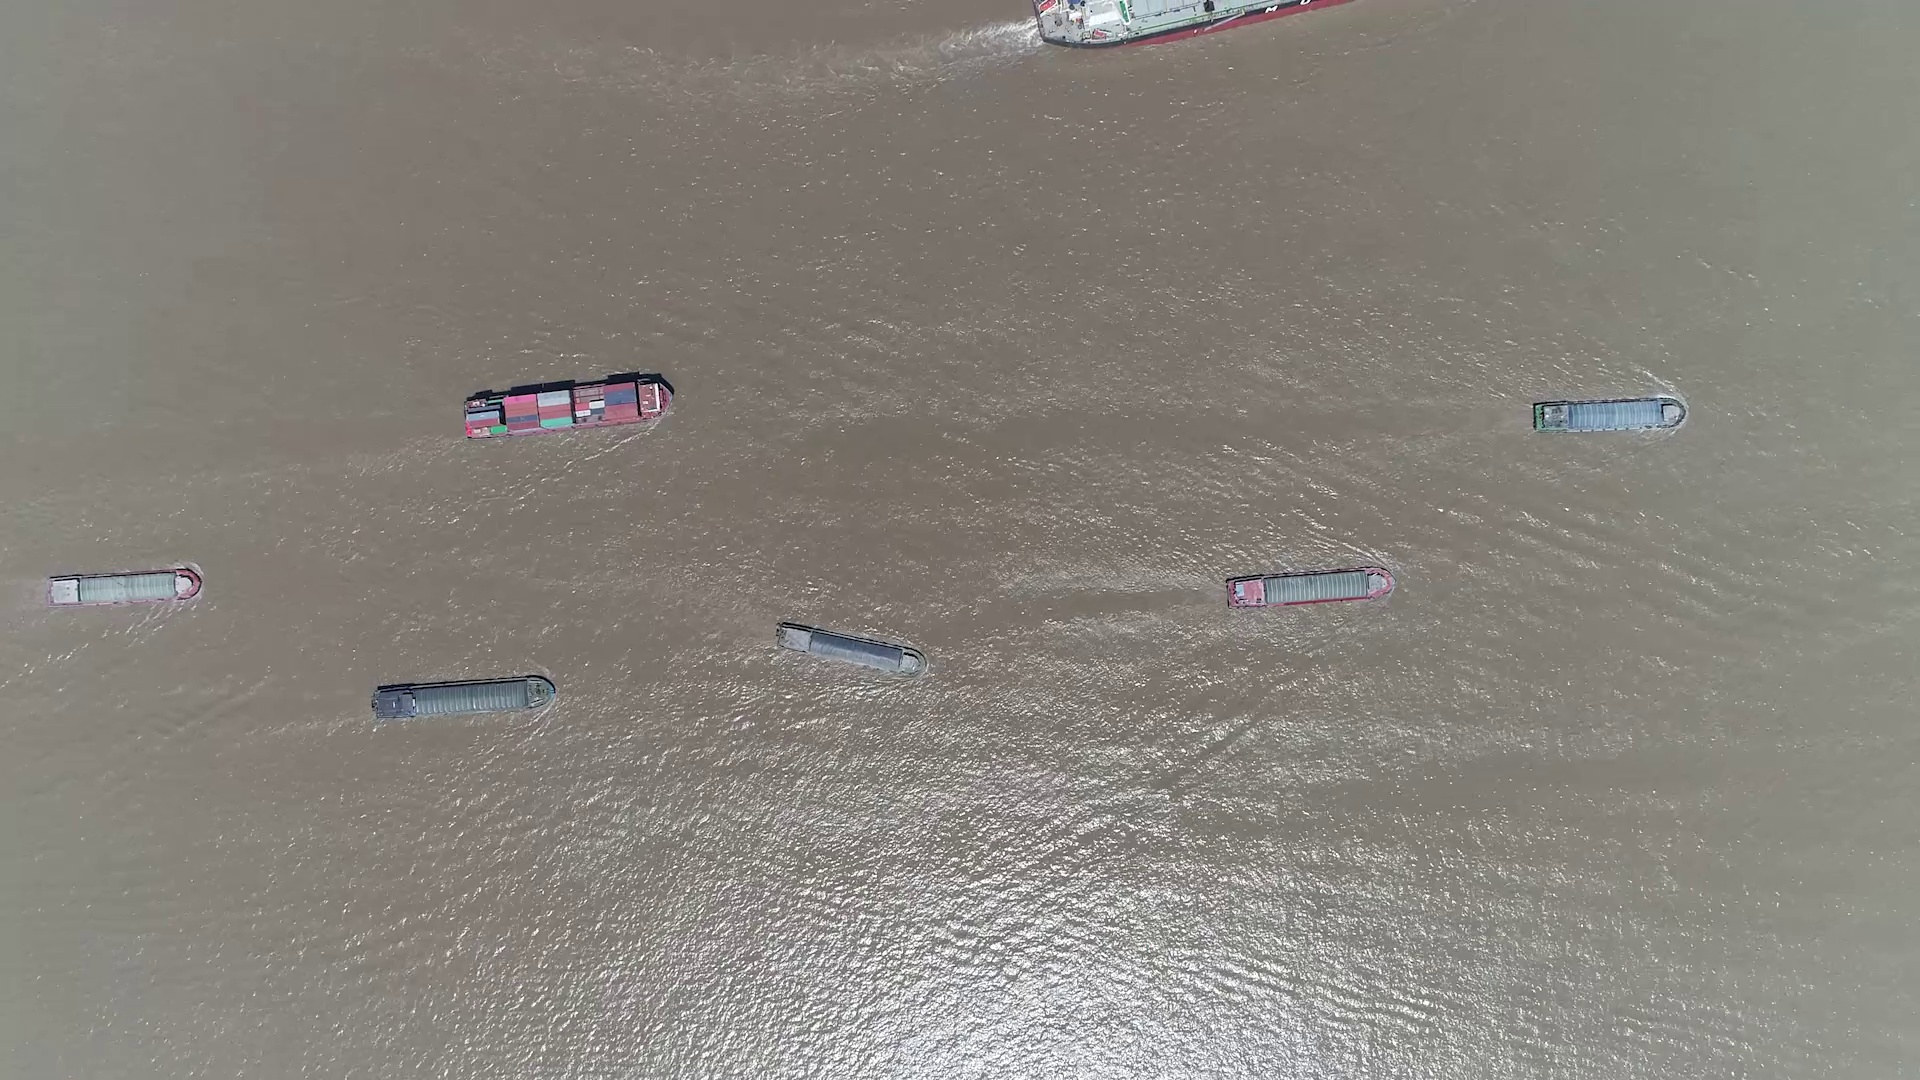ship: (1035, 1, 1352, 47), (463, 375, 674, 439), (775, 622, 927, 676), (373, 675, 555, 720), (1226, 566, 1396, 608), (45, 568, 200, 607), (1531, 396, 1687, 433)
